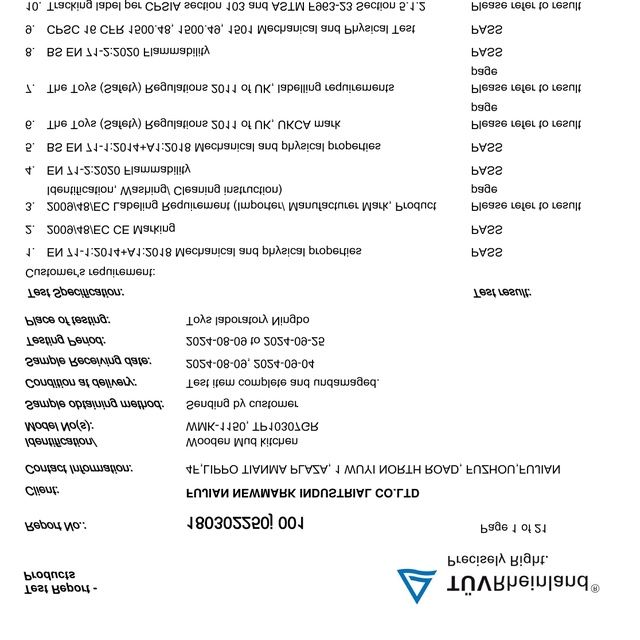tuv_rheinland: (394, 565, 605, 608)
